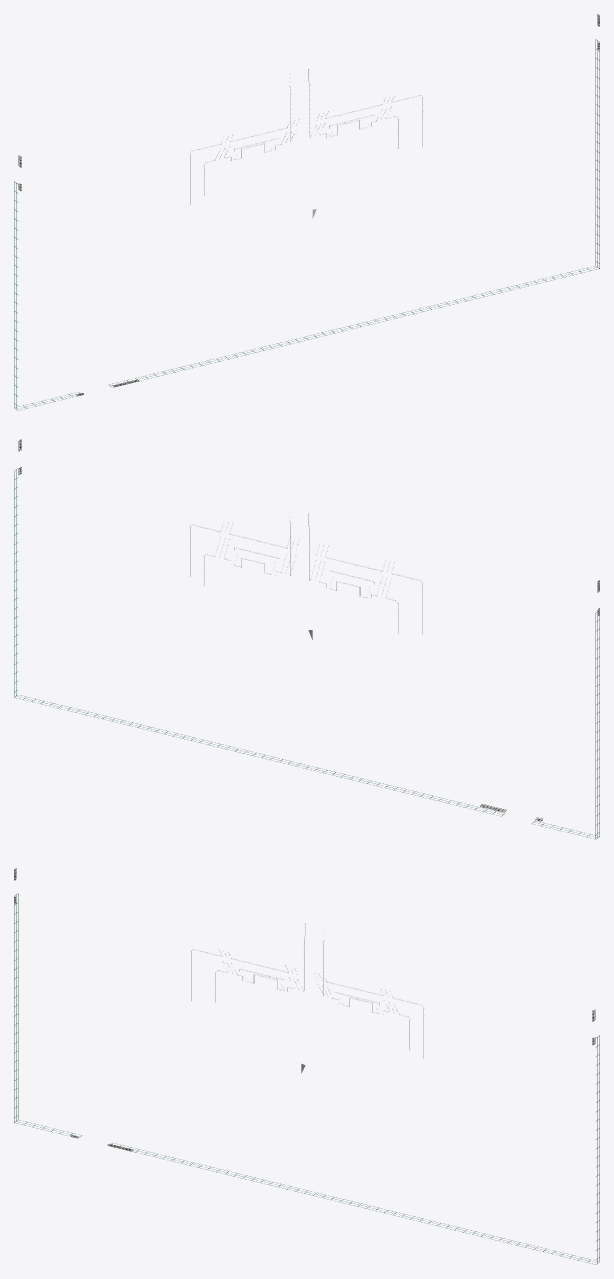
File: SM_000406_merge_ar01_sdw_on_001.fbx
The picture shows the model from 3 angles, top to bottom: view 1: azimuth 30°, elevation 25°; view 2: azimuth 150°, elevation 25°; view 3: azimuth 330°, elevation 25°; orthographic projection.
Parts seen in each view (by area): view 1: SM_000406.001; view 2: SM_000406.001; view 3: SM_000406.001.
Part boxes in pixels (x1,y1,x2,y2): SM_000406.001: [14, 14, 599, 410]; SM_000406.001: [14, 439, 599, 839]; SM_000406.001: [14, 868, 599, 1264].
Size of the model in its own units: 329 by 142 by 13.12.
